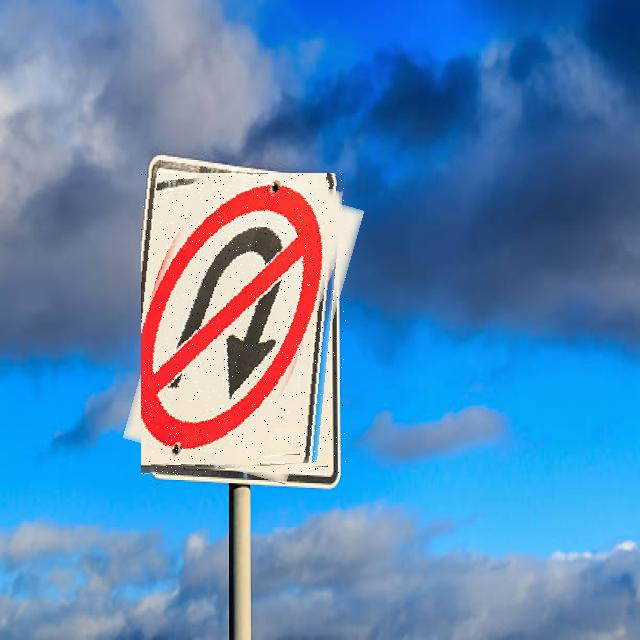no u turn: (141, 173, 346, 476)
